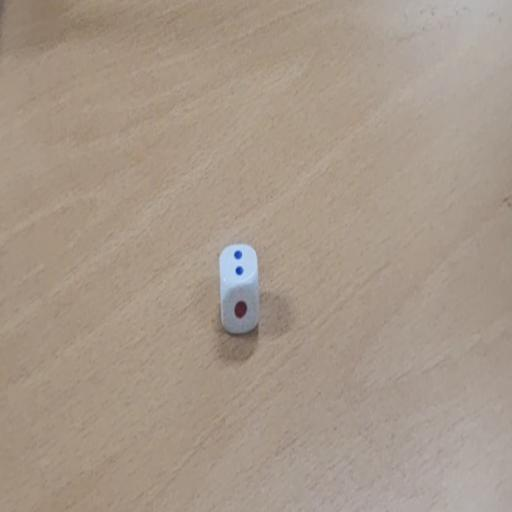dice_2: (217, 242, 262, 338)
